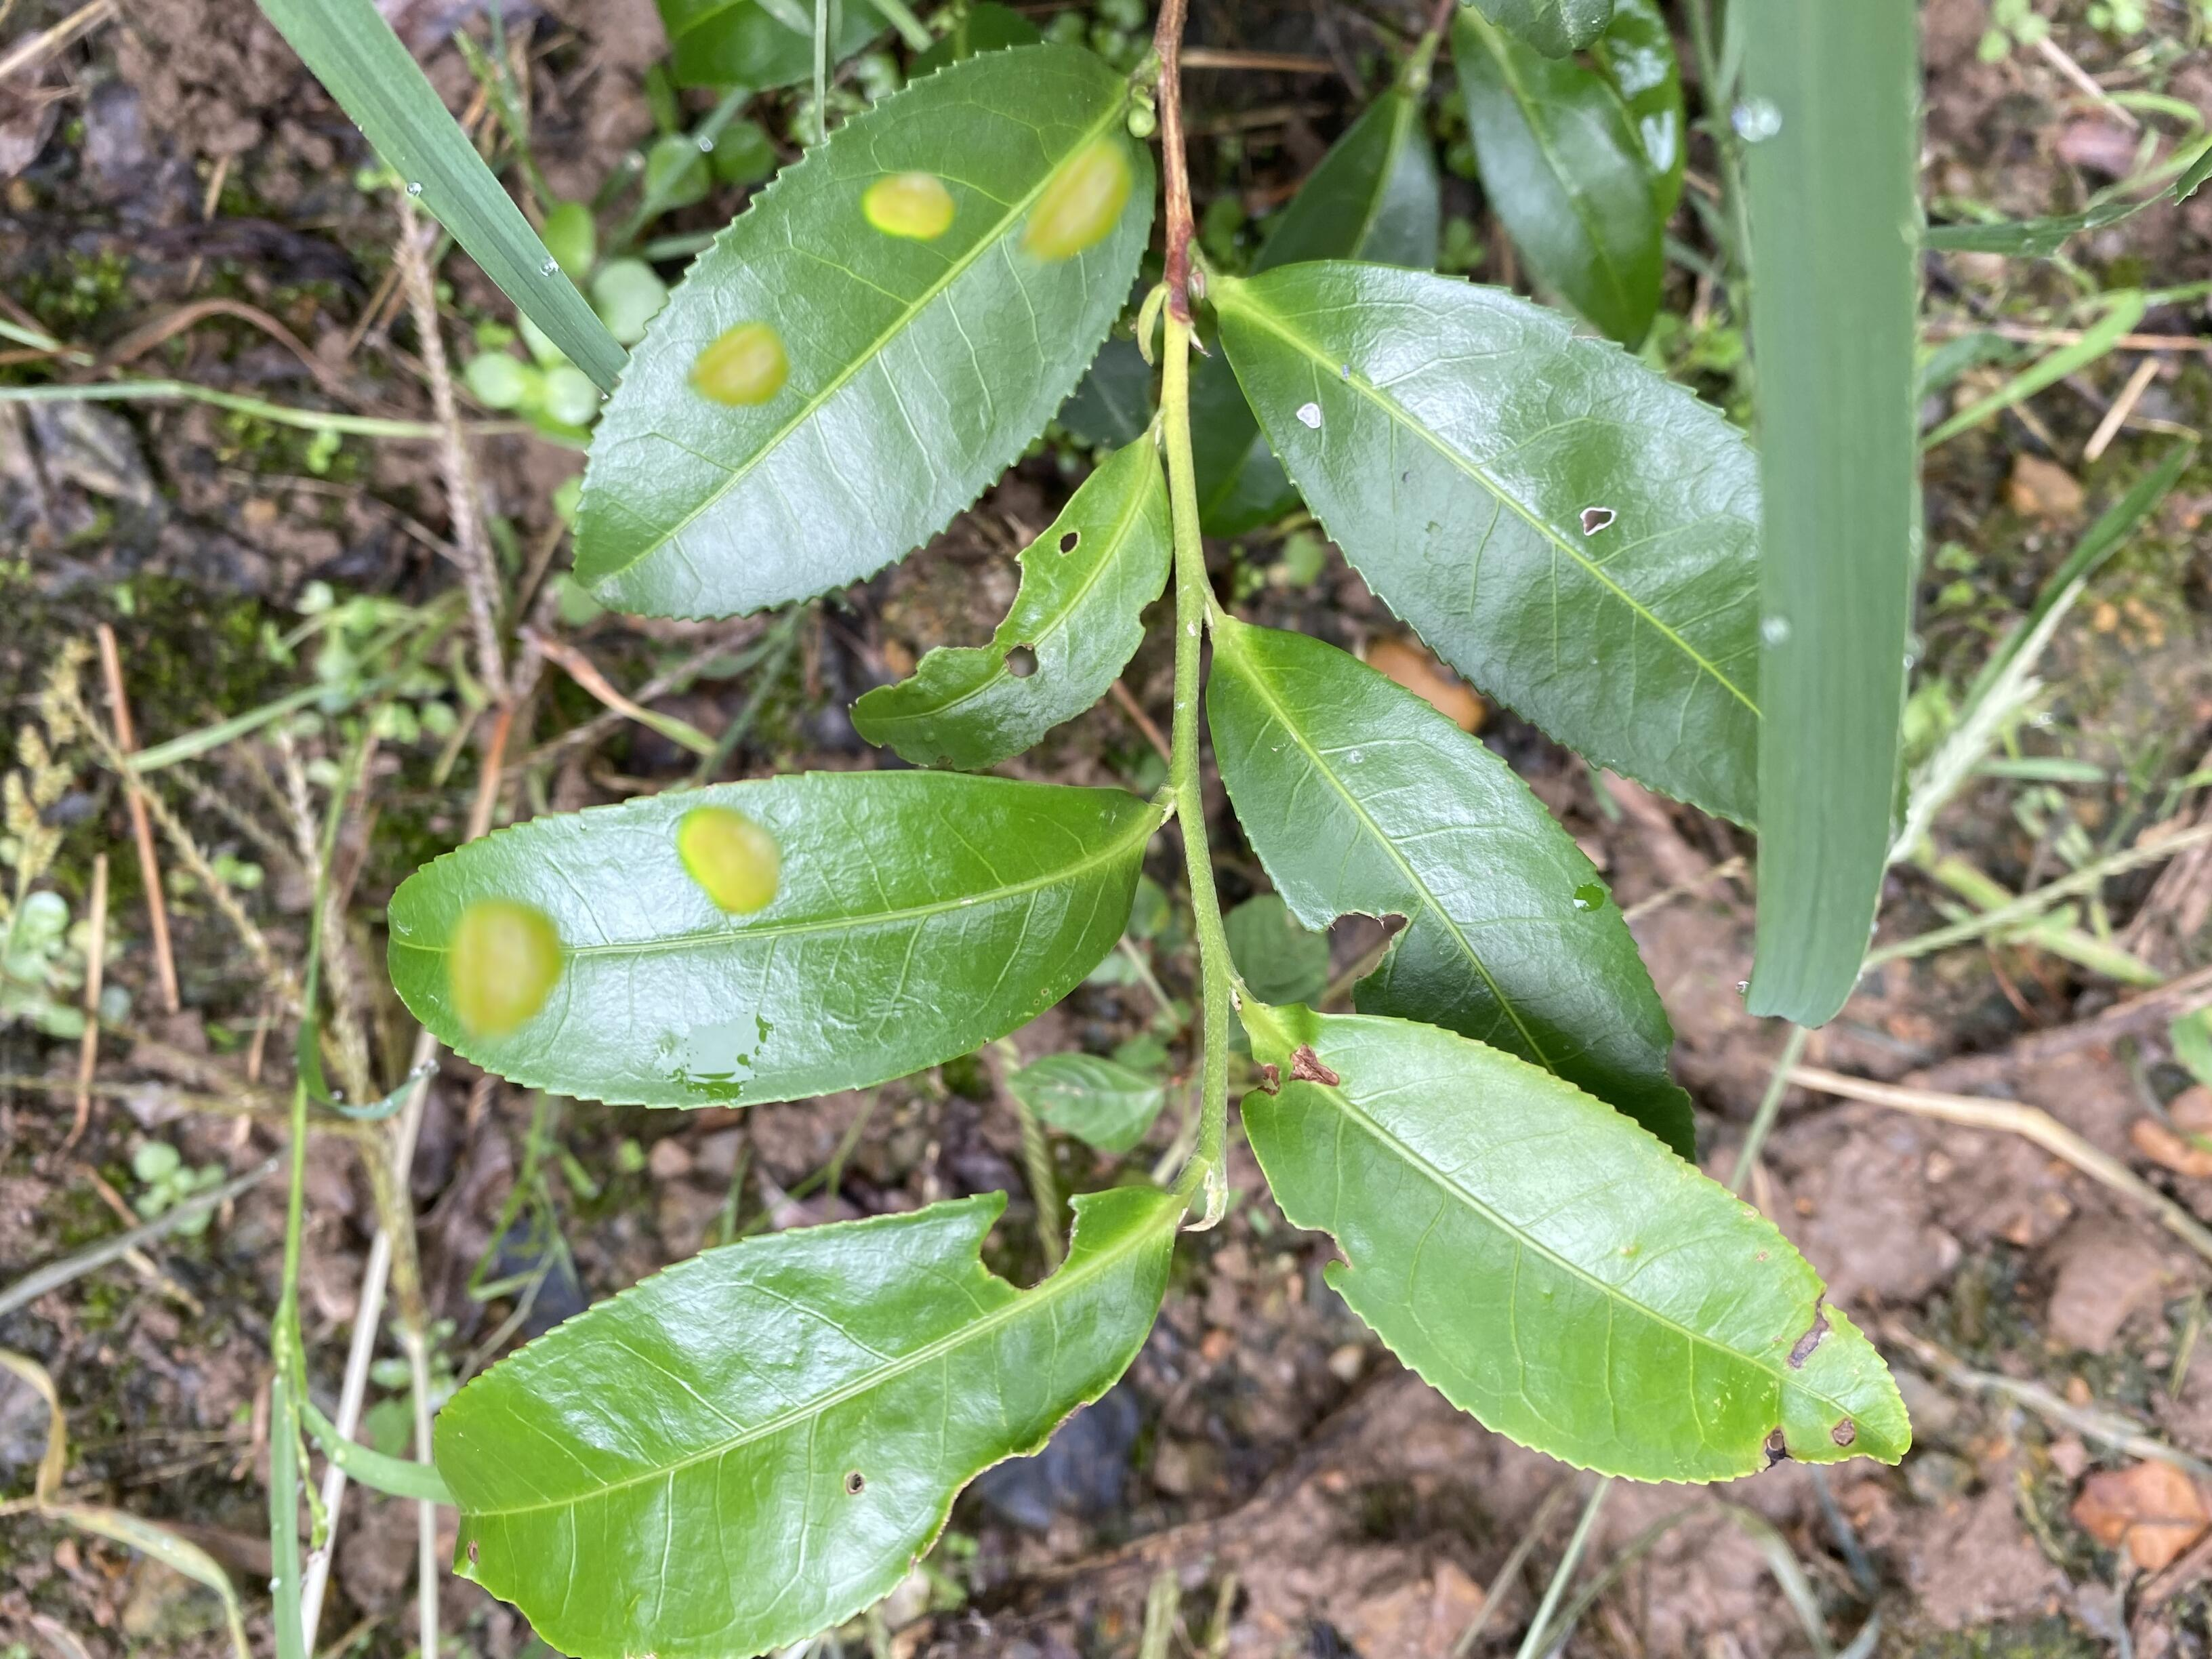chabing_high: (571, 35, 1158, 620), (388, 772, 1155, 1107)
chihuo_high: (846, 443, 1176, 774)
chihuo_low: (430, 1185, 1184, 1650), (1221, 261, 1768, 823), (1200, 617, 1700, 1140)
tanju_low: (1237, 1006, 1921, 1485)
